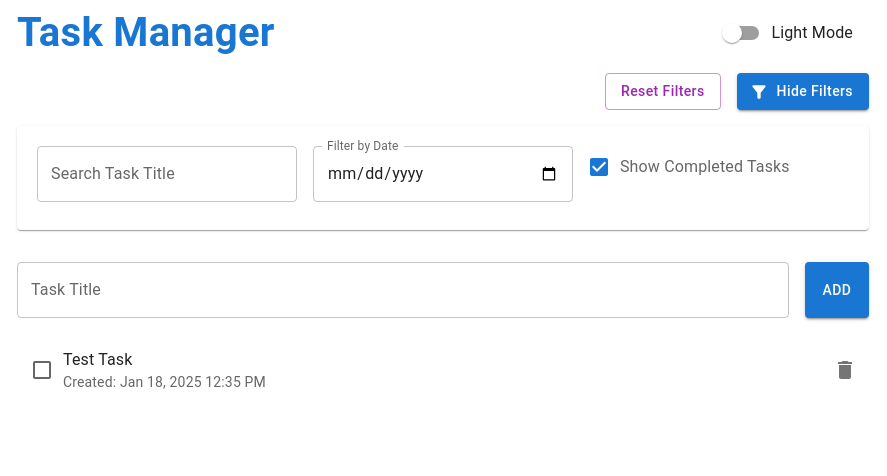
Test case: App Component › delete a task
// Add a task first
In the field with placeholder "Task Title": [403, 290] box [17,262,789,318], type "Task to Delete"
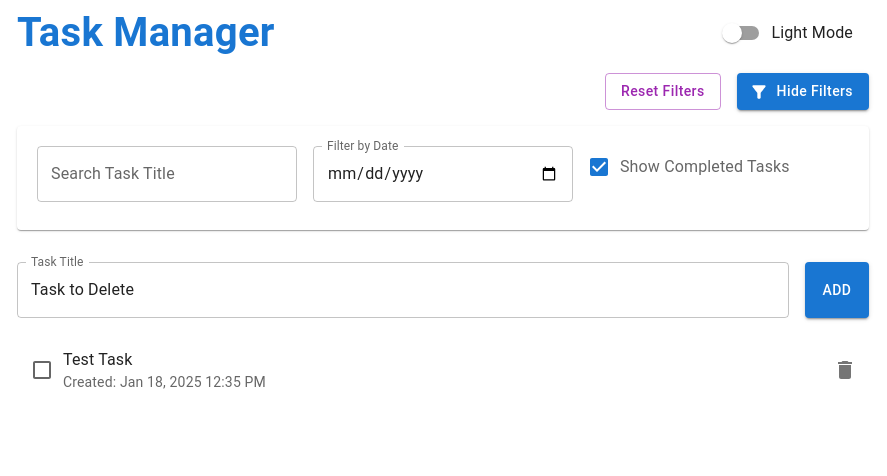
Click the button "Add": [837, 290] box [805,262,869,318]
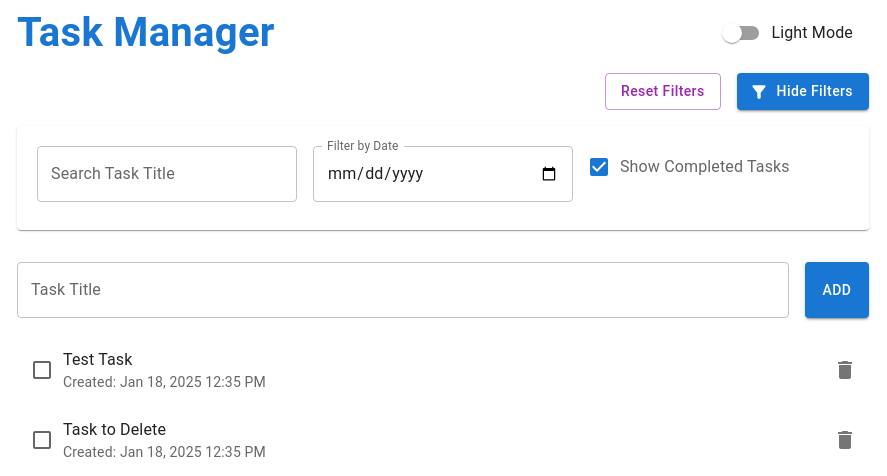
Click the 4th checkbox: [42, 440] box [30,428,54,452]
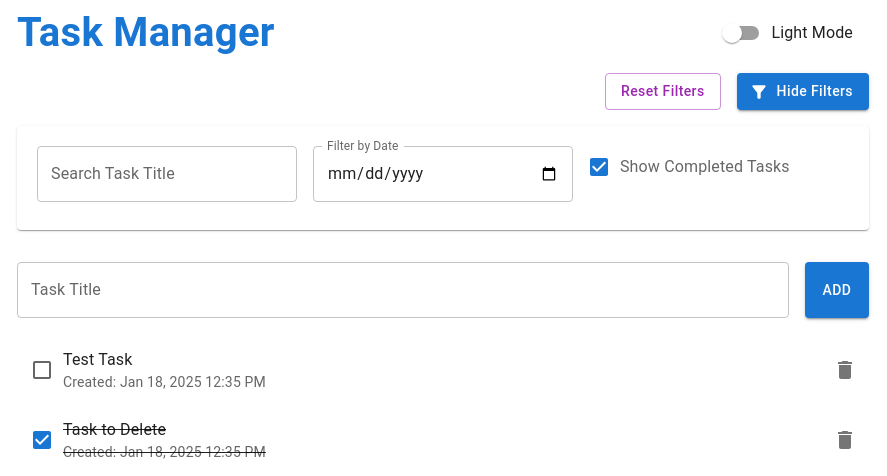
Click the button with test id "deleteButton" in the row of "Task to Delete": [845, 440] box [825,420,865,460]
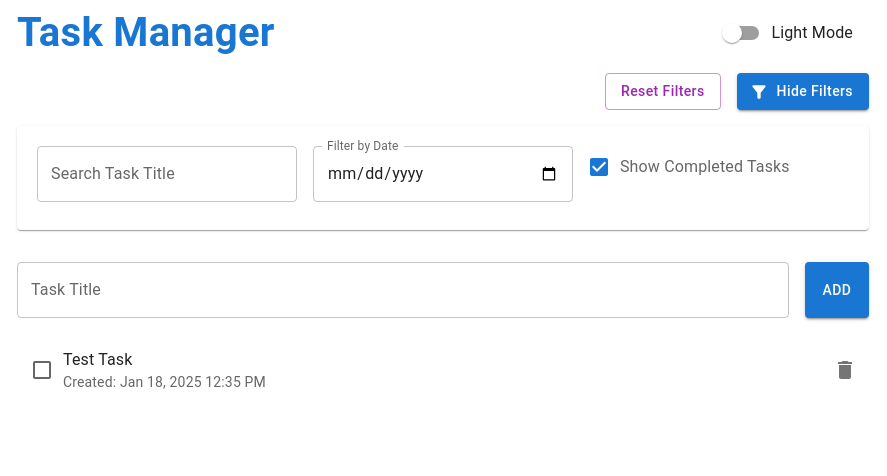
Now the text "Task to Delete" is gone
